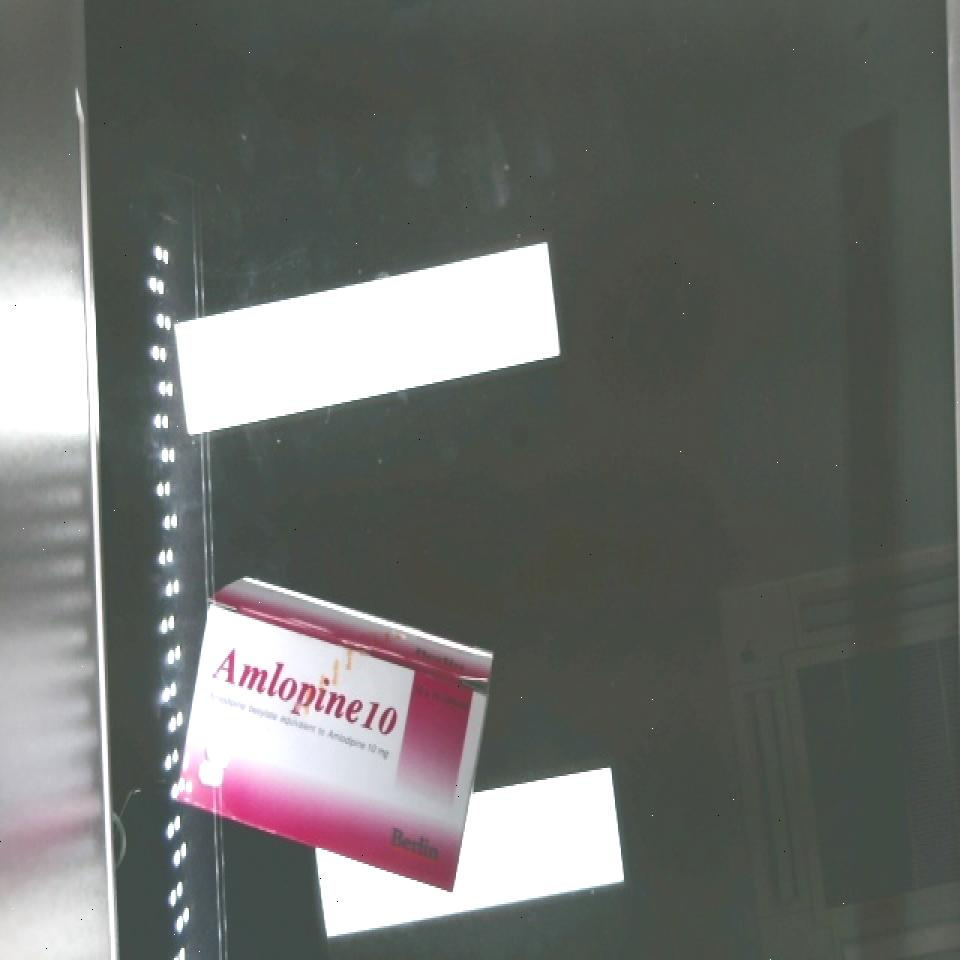medicine_box: (152, 598, 512, 892)
medicine_label_obb: (191, 634, 420, 761)
